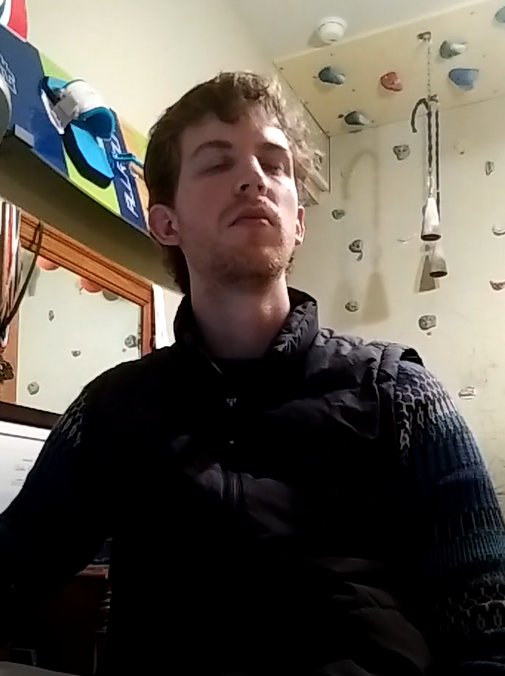Sleeping: (190, 141, 294, 185)
